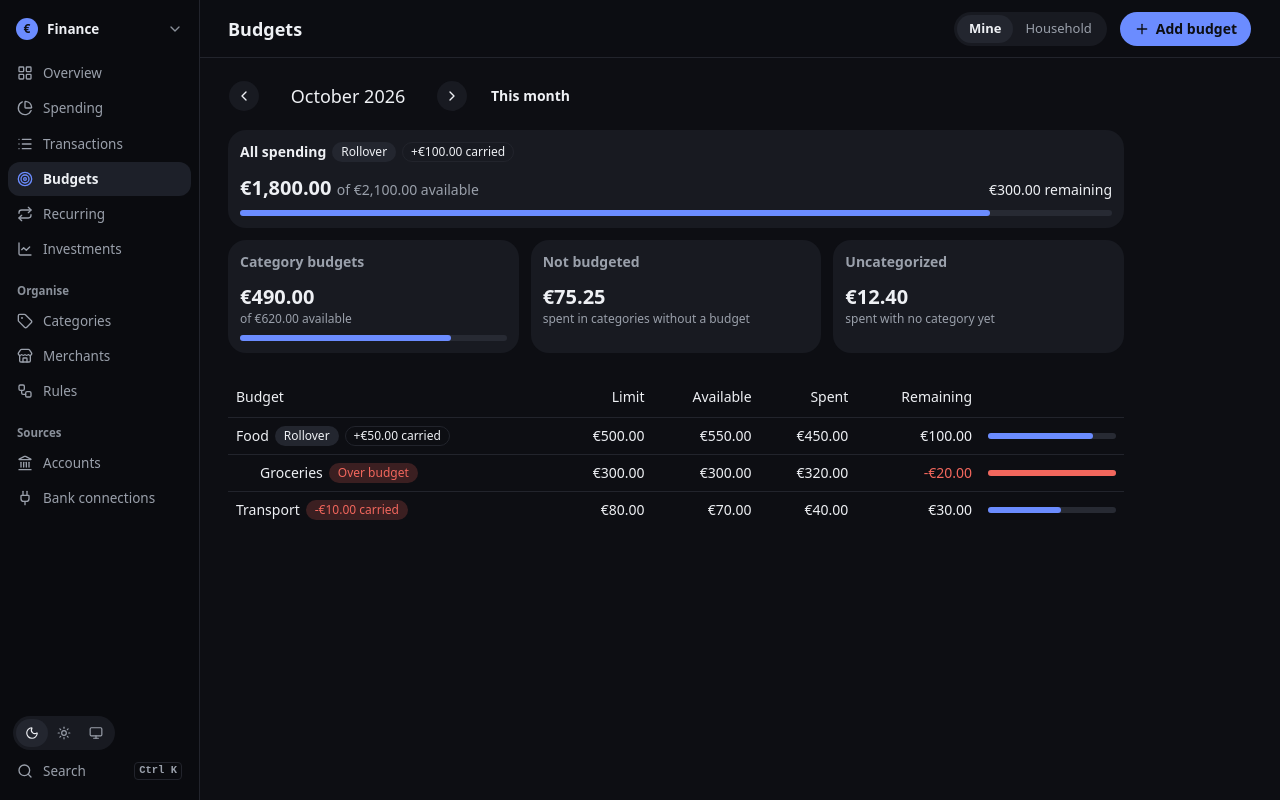
Test: removes the overall budget
Click the button "All spending" at (283, 152), box [240,142,326,162]
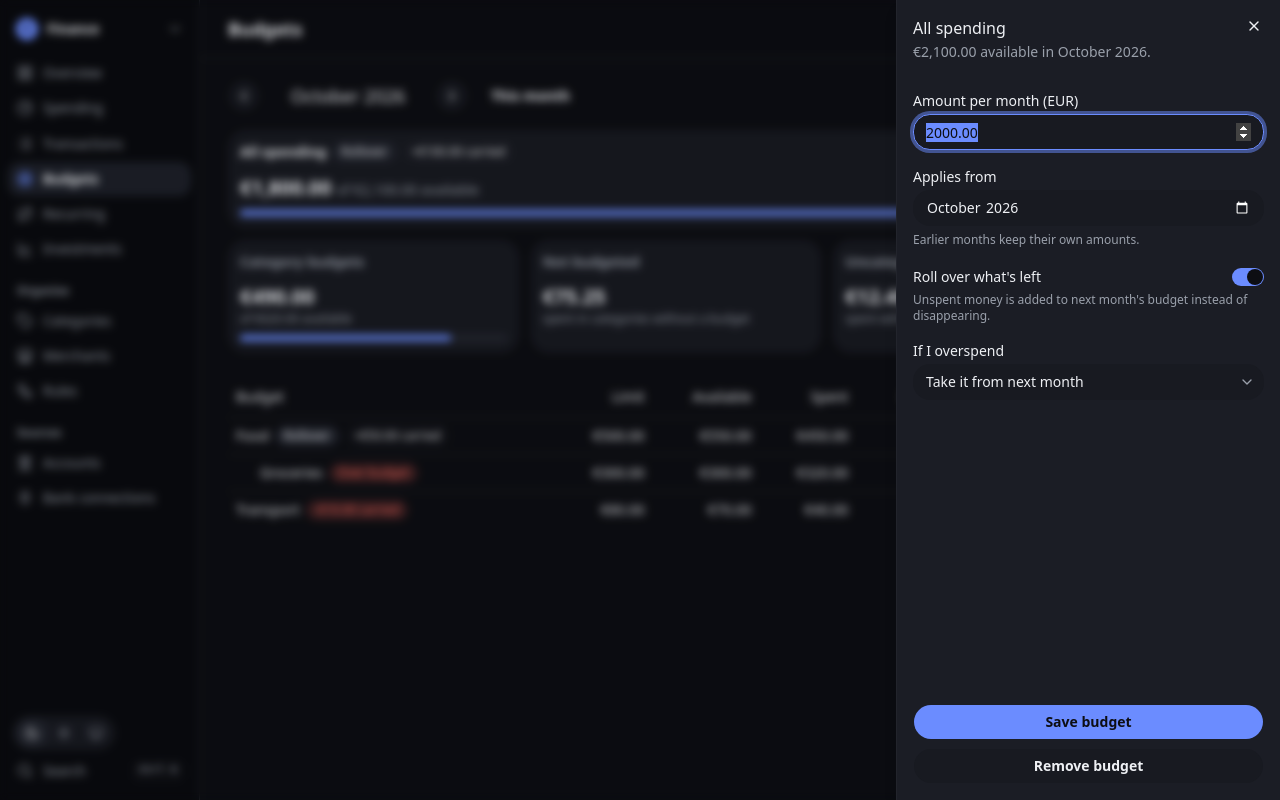
Click the button "Remove budget" at (1088, 766), box [913,748,1264,784]
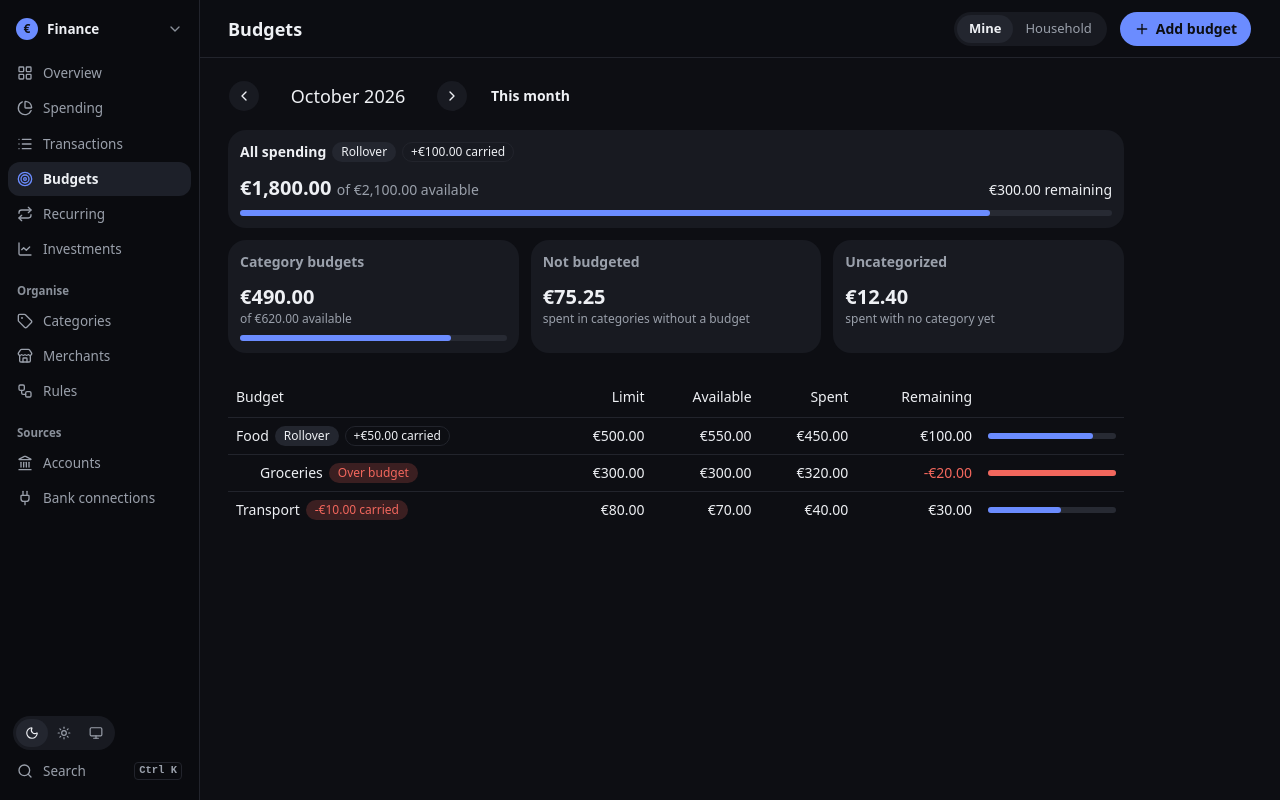
Expected: the dialog is gone
